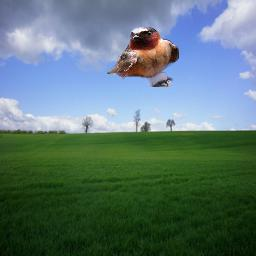Swallow: (107, 27, 179, 87)
